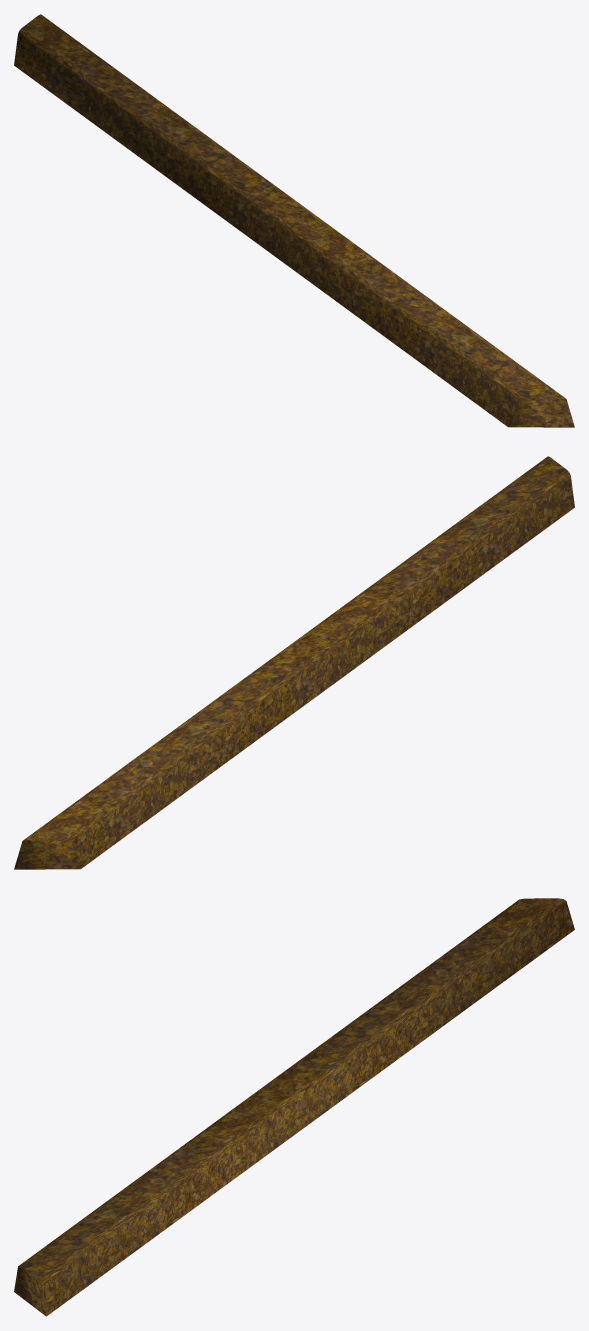
File: E3_suelo3.fbx
3 renders of one model, top to bottom at view 1: azimuth 30°, elevation 25°; view 2: azimuth 150°, elevation 25°; view 3: azimuth 330°, elevation 25°, orthographic.
Visible parts, largest first — view 1: Cube.009; view 2: Cube.009; view 3: Cube.009.
Part boxes in pixels (box(x1,y1,x2,y2)): Cube.009: box(14, 14, 574, 427); Cube.009: box(14, 456, 574, 869); Cube.009: box(14, 898, 574, 1316).
Size of the model in its own units: 143 by 87.02 by 2643.
1 material, 1 textured.
